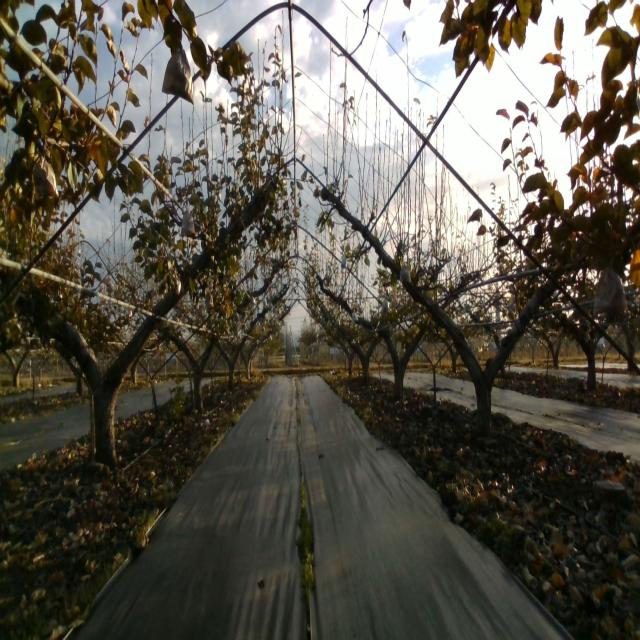pearbags: (162, 42, 194, 105), (593, 265, 627, 317), (33, 160, 59, 198), (181, 208, 195, 238), (399, 263, 412, 283)
